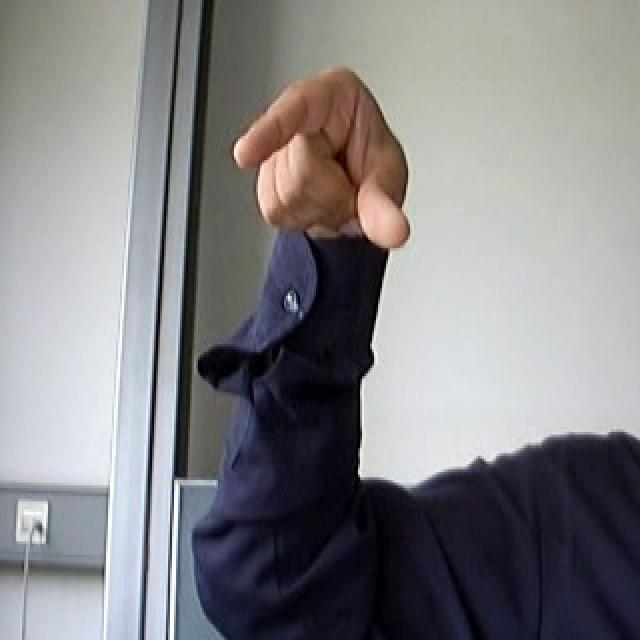Q: (225, 50, 417, 260)
